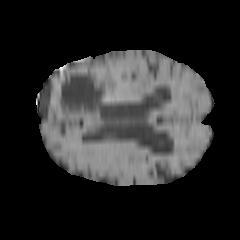glioma: (50, 65, 120, 144)
